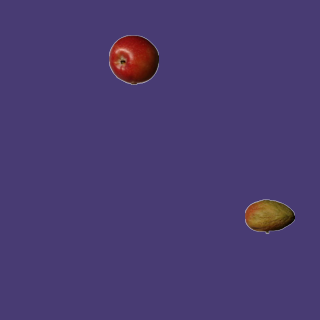Apple Braeburn: (108, 34, 158, 84)
Papaya: (244, 191, 294, 241)
